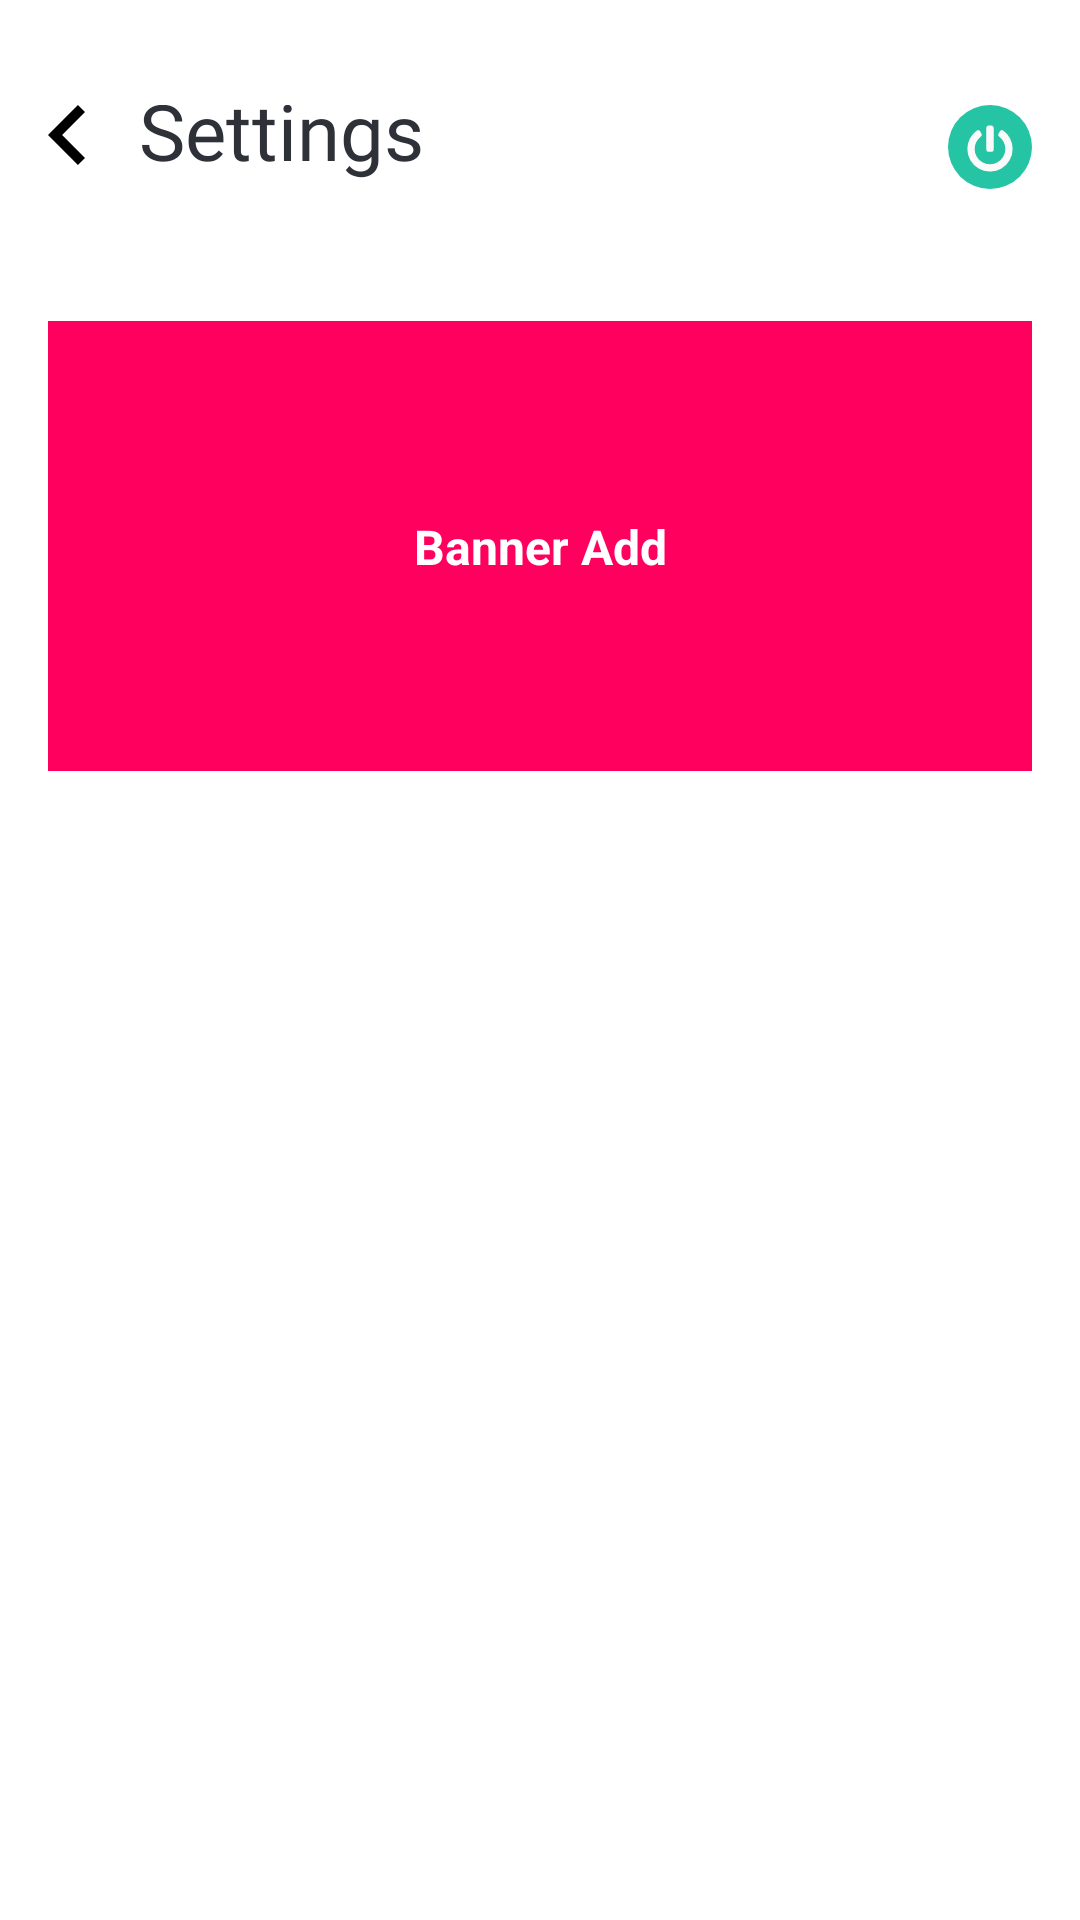

Icon click points for this 1080px×1920px phone screenshot, format (x=x, y=y):
back arrow: (x=66, y=135)
exit: (x=990, y=147)
